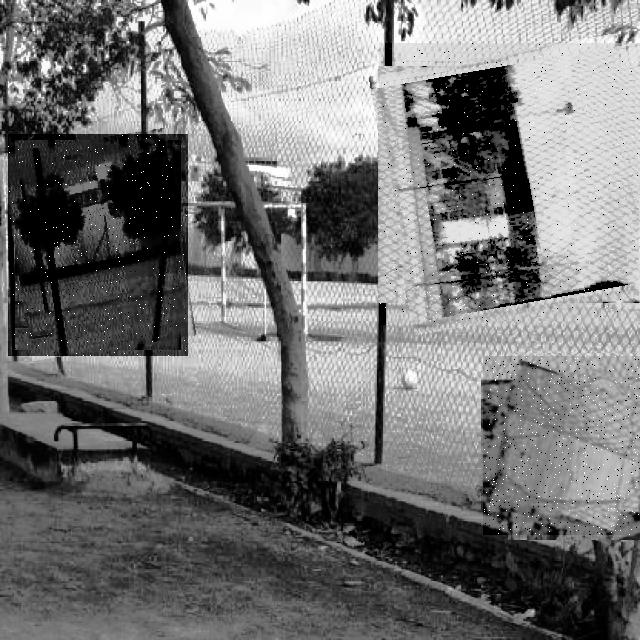anomaly-fence: (483, 356, 640, 535)
fences: (379, 43, 640, 325), (8, 134, 188, 356)
